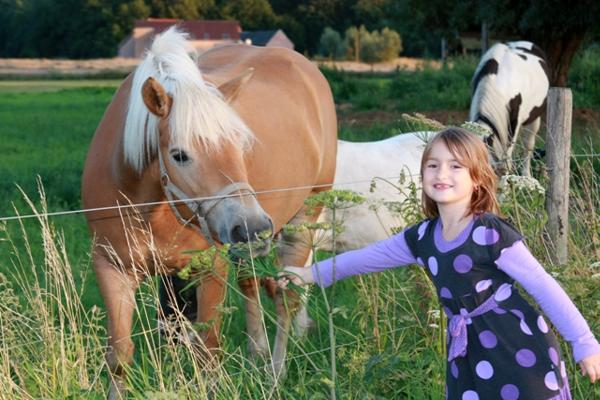person: (279, 127, 600, 400)
